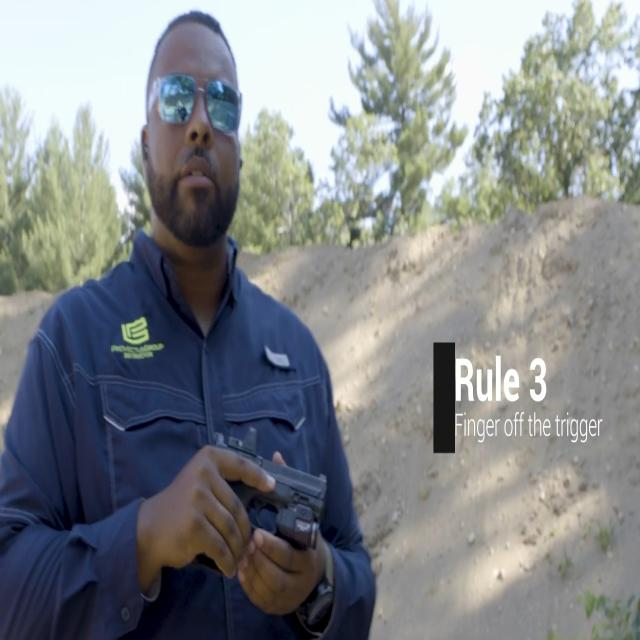Gun_Holder: (202, 426, 326, 582)
Person: (3, 18, 370, 640)
